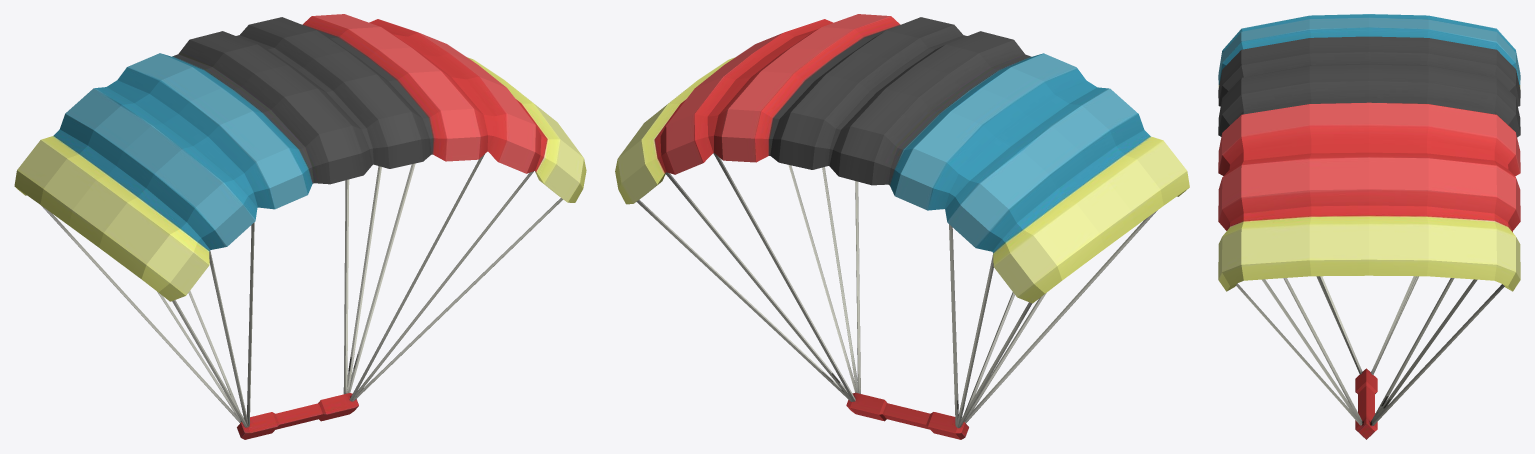
File: parachute.glb
The picture shows the model from 3 angles, left to right: view 1: azimuth 30°, elevation 25°; view 2: azimuth 150°, elevation 25°; view 3: azimuth 270°, elevation 25°; orthographic projection.
Visible parts, largest first — view 1: prop; view 2: prop; view 3: prop.
Part boxes in pixels (x1=…): prop: x1=14, y1=14, x2=586, y2=439; prop: x1=615, y1=14, x2=1189, y2=439; prop: x1=1218, y1=14, x2=1520, y2=439.
Size of the model in its own units: 9.11 by 6.83 by 5.22.
1 material, 1 textured.
